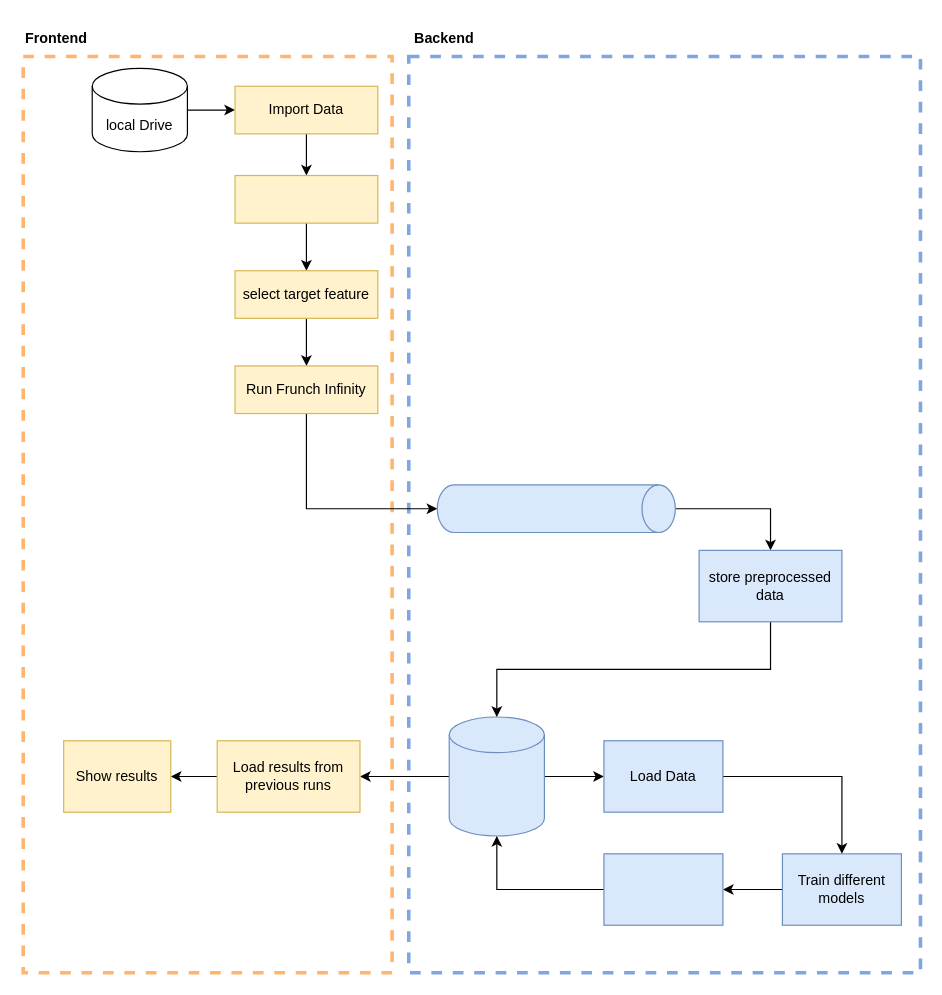
Some shapes in this 942 by 995 pixel diagram are drawn without their labels. Each missing label, with the centre of its shape:
"classify features" belongs at pixel 306 198.
"Data Warehouse" belongs at pixel 496 776.
"Preprocessing Pipeline" belongs at pixel 552 508.
"Store results" belongs at pixel 663 889.
